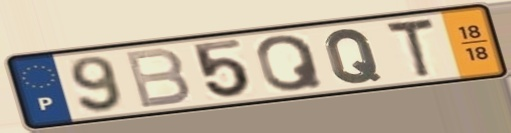5: (188, 39, 255, 101)
9: (70, 54, 126, 116)
B: (121, 46, 194, 111)
Q: (254, 33, 327, 94), (322, 26, 385, 86)
T: (381, 16, 438, 81)
